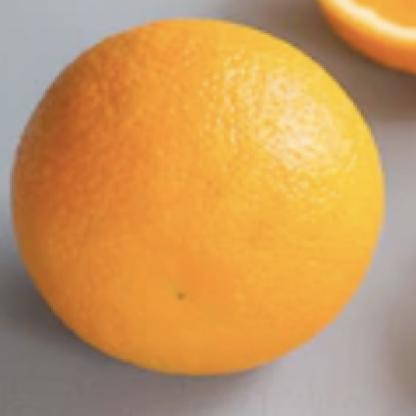fresh: (12, 21, 386, 374)
